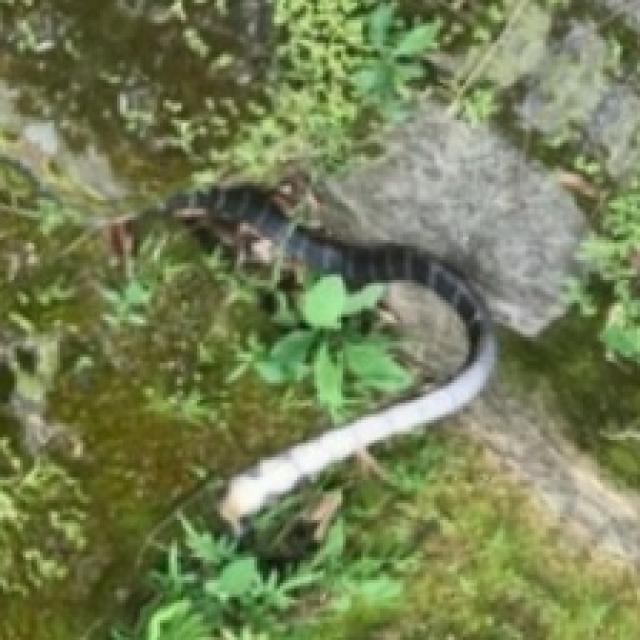king cobra: (189, 186, 494, 534), (197, 189, 494, 531)
